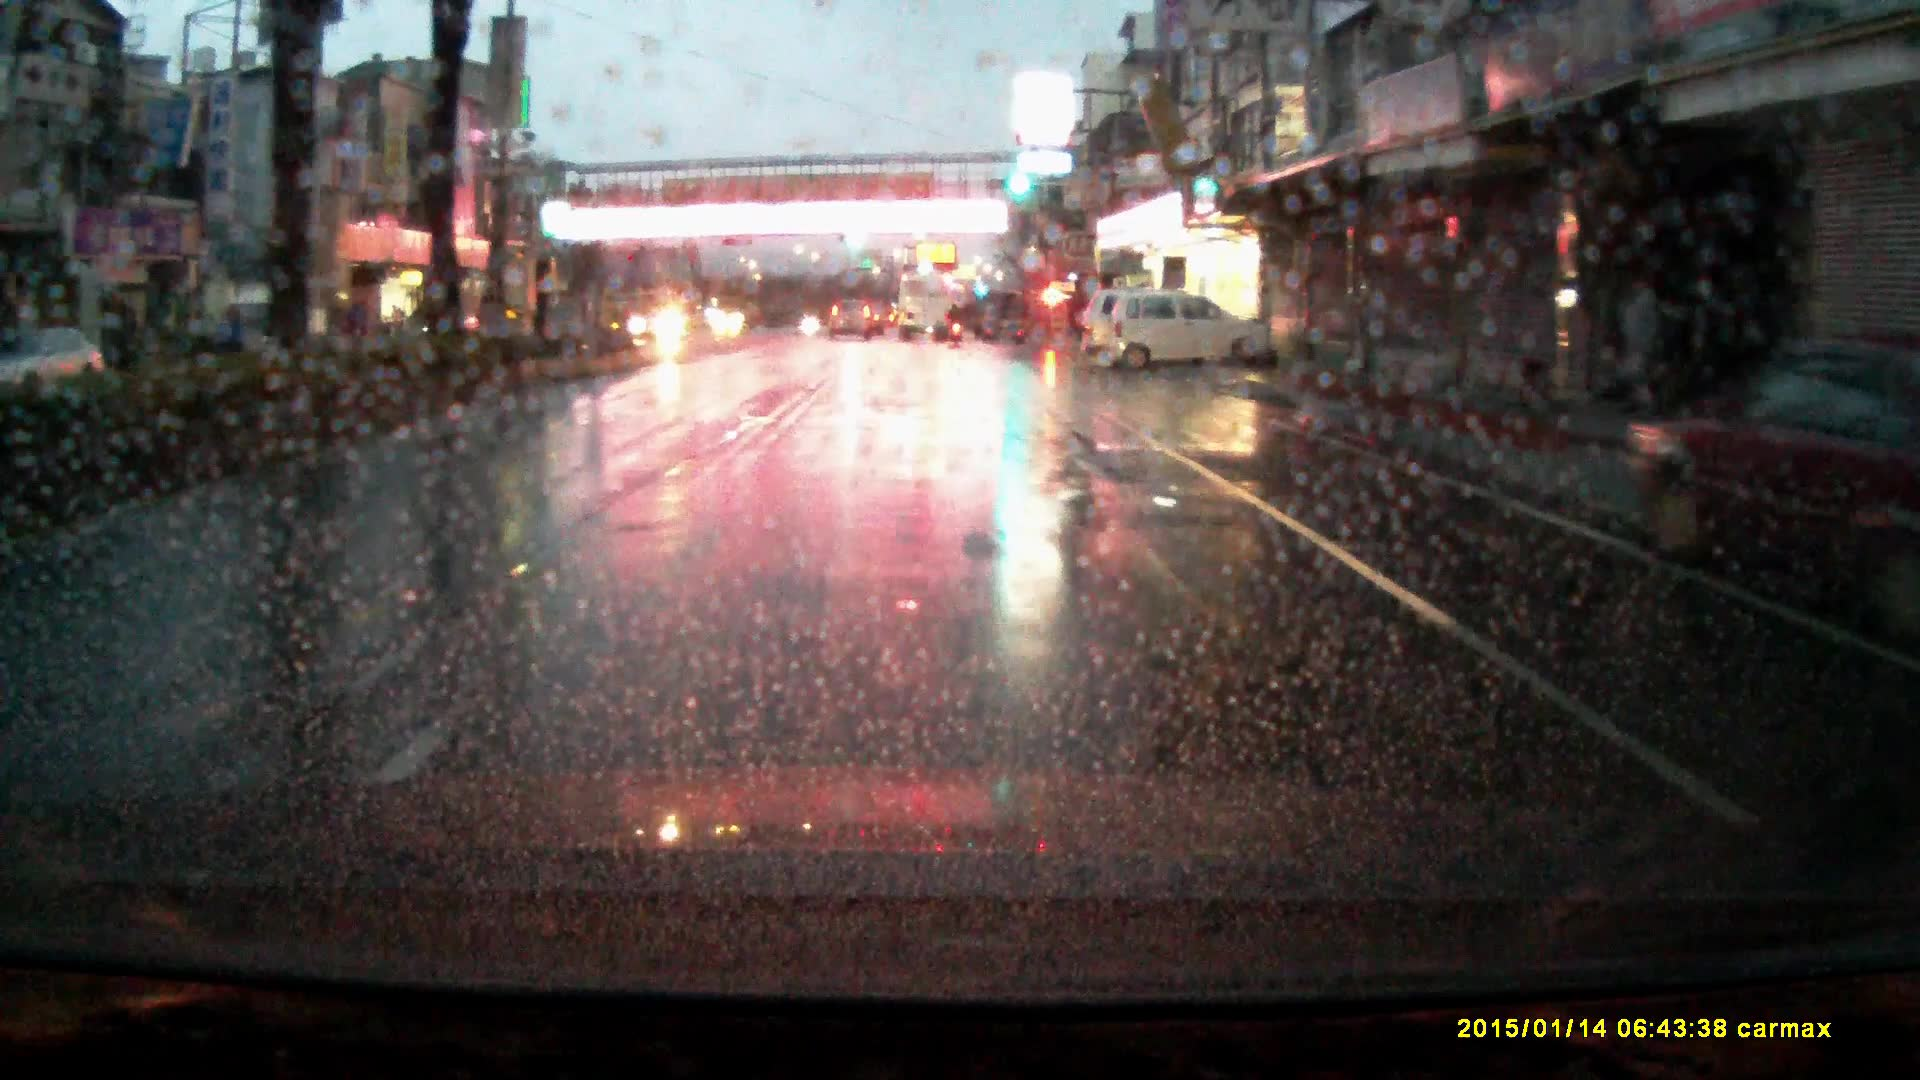rider: (946, 304, 966, 347)
vehicle: (1626, 348, 1920, 588), (1105, 289, 1275, 373), (1, 326, 111, 402), (207, 287, 312, 362), (1081, 290, 1172, 363), (627, 291, 698, 344), (899, 274, 951, 344), (830, 300, 875, 344)
